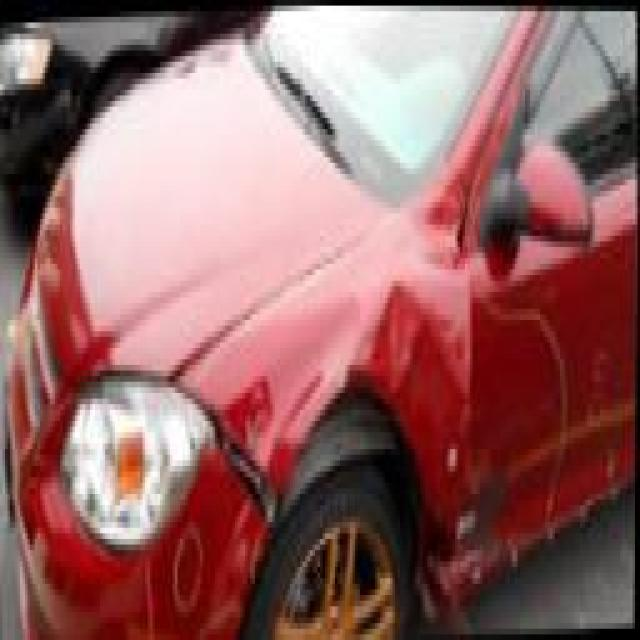Fender: (173, 93, 489, 620)
